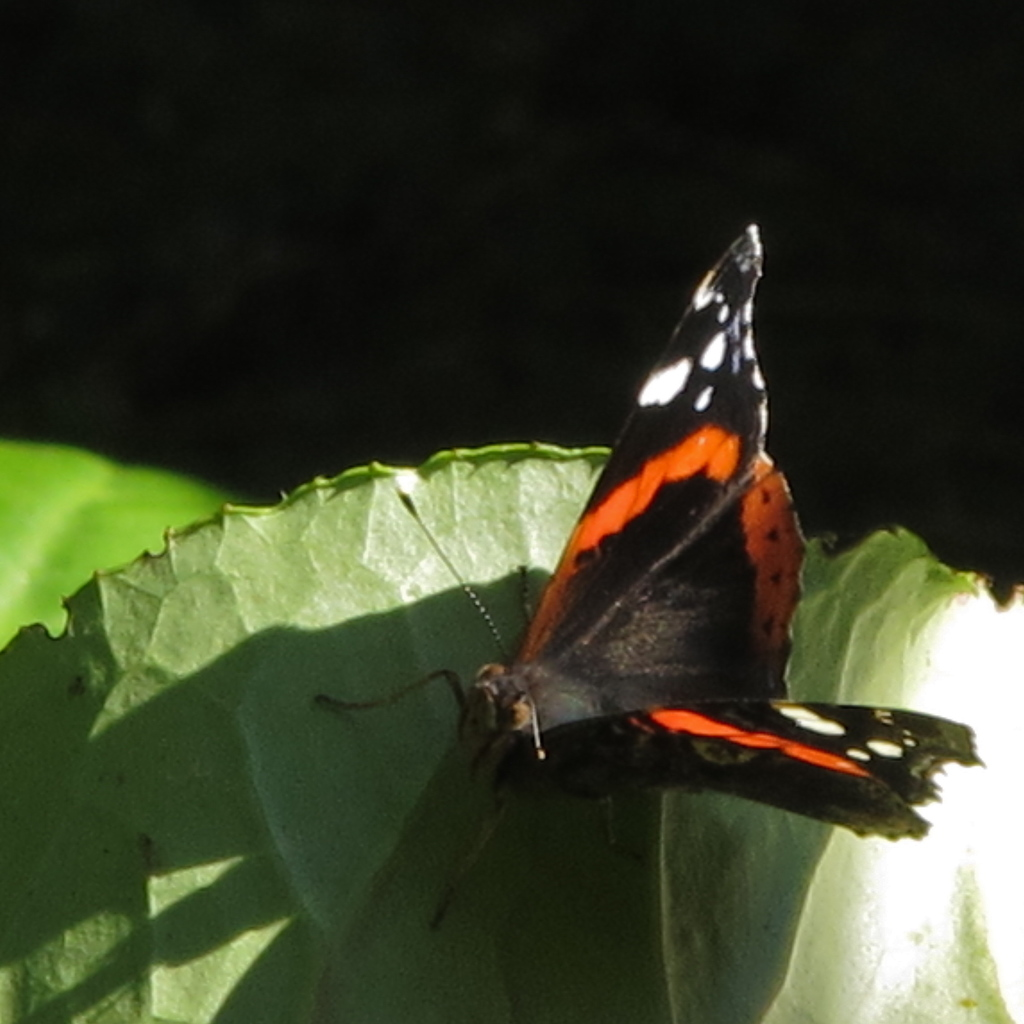Butterfly: (328, 204, 999, 931)
